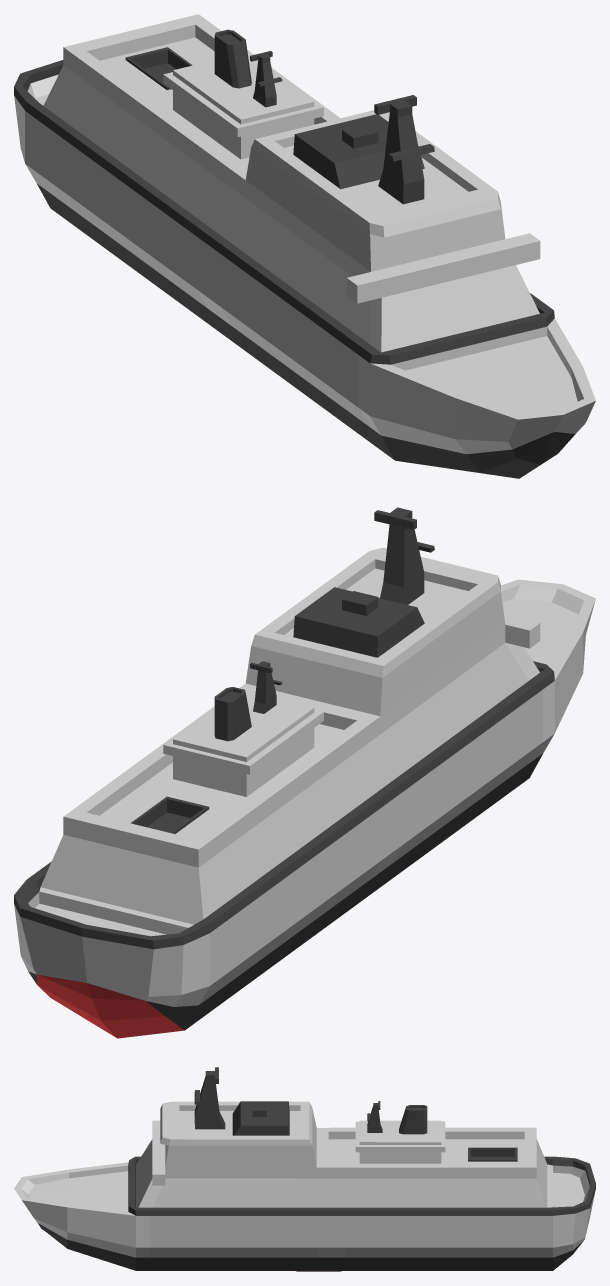
File: ships.glb
3 renders of one model, top to bottom at view 1: azimuth 30°, elevation 25°; view 2: azimuth 150°, elevation 25°; view 3: azimuth 270°, elevation 25°, orthographic. The views are drawn at different scales.
Parts seen in each view (by area): view 1: CruiseShip_Cube; view 2: CruiseShip_Cube; view 3: CruiseShip_Cube.
Part boxes in pixels (box(x1,y1,x2,y2)): CruiseShip_Cube: box(14, 14, 595, 478); CruiseShip_Cube: box(14, 507, 595, 1038); CruiseShip_Cube: box(14, 1067, 595, 1270).
Size of the model in its own units: 4 by 6.71 by 18.05.
